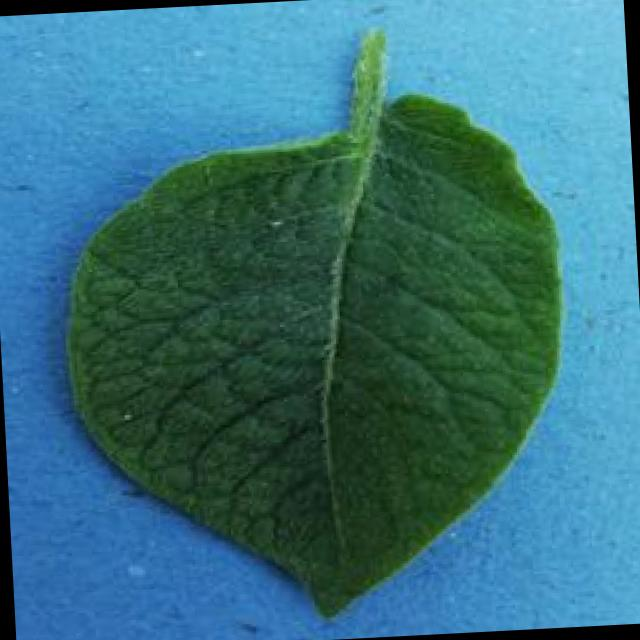Potato_Healthy: (51, 20, 578, 630)
